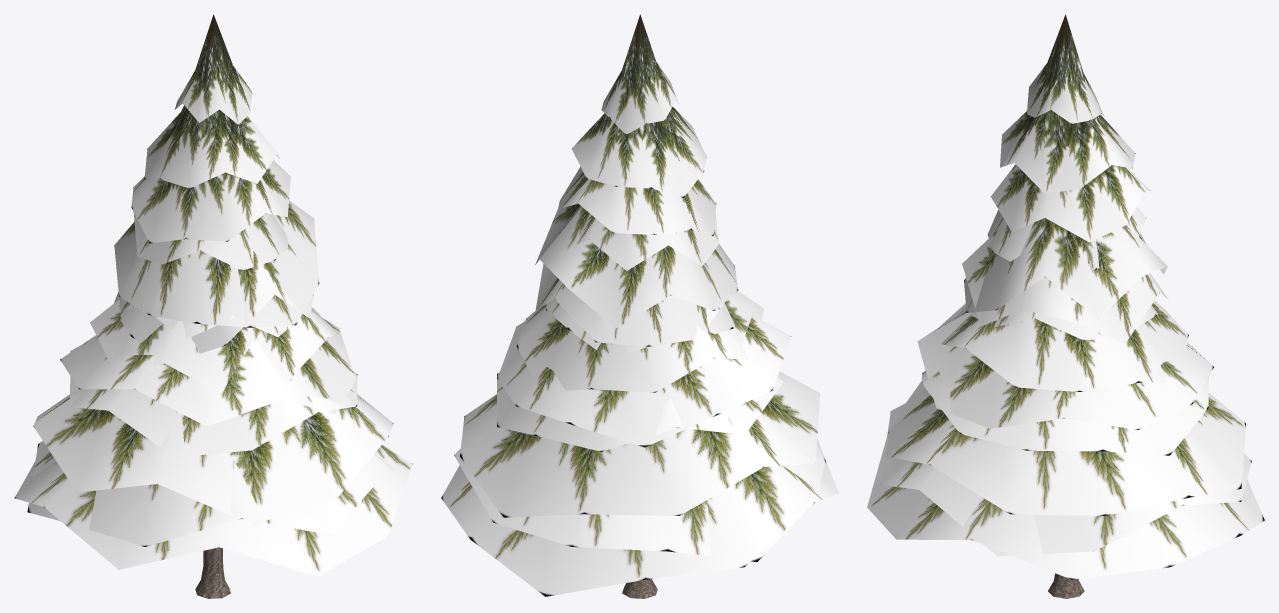
File: pine_tree.dae
3 views of the same model, side by side, from view 1: azimuth 30°, elevation 25°; view 2: azimuth 150°, elevation 25°; view 3: azimuth 270°, elevation 25° (orthographic).
Visible parts, largest first — view 1: Cylinder002; view 2: Cylinder002; view 3: Cylinder002.
Part boxes in pixels (x1,y1,x2,y2): Cylinder002: (14,14,412,598); Cylinder002: (441,14,838,598); Cylinder002: (867,14,1264,598).
Bounding box in the file's own units: 125 × 125 × 200.
